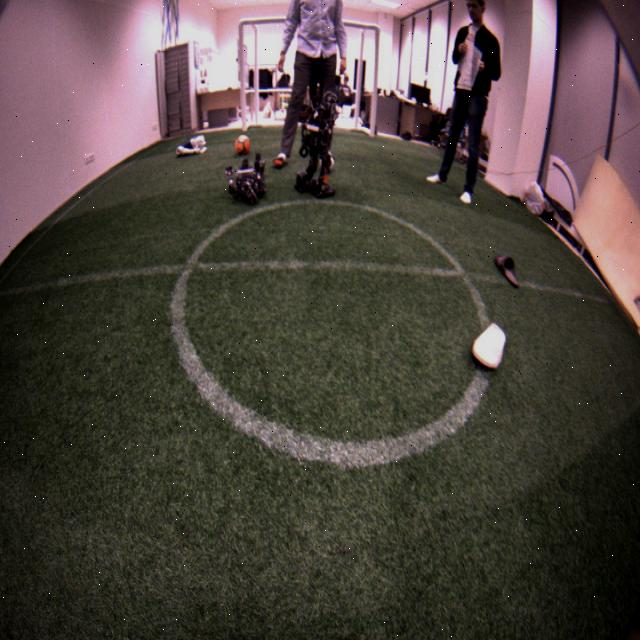ball: (235, 136, 249, 156)
goalpost: (370, 28, 382, 136), (237, 20, 248, 130)
